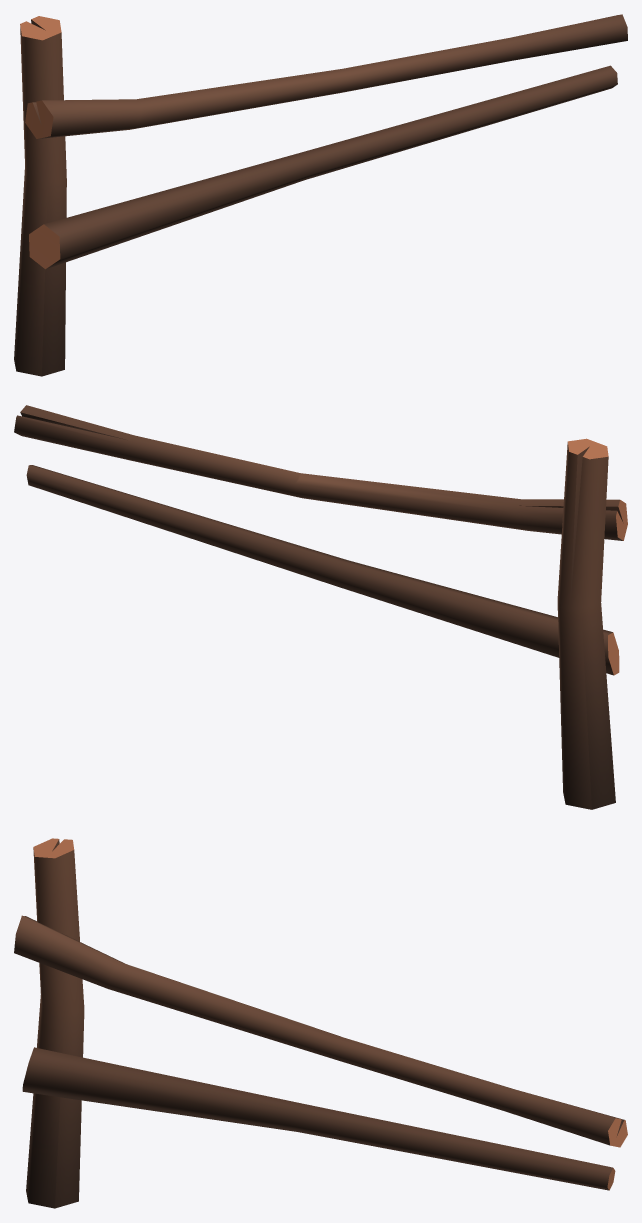
Rendered from Fence_2B_Part_1.fbx.
The picture shows the model from 3 angles, top to bottom: view 1: azimuth 30°, elevation 25°; view 2: azimuth 150°, elevation 25°; view 3: azimuth 330°, elevation 25°; orthographic projection. The views are drawn at different scales.
Parts seen in each view (by area): view 1: Fence_2B_Part_1; view 2: Fence_2B_Part_1; view 3: Fence_2B_Part_1.
Boxes of the visible parts, box(x1,y1,x2,y2) form: Fence_2B_Part_1: box(14, 14, 627, 376); Fence_2B_Part_1: box(14, 405, 627, 809); Fence_2B_Part_1: box(14, 838, 627, 1208).
Bounding box in the file's own units: 224 × 123 × 25.31.
